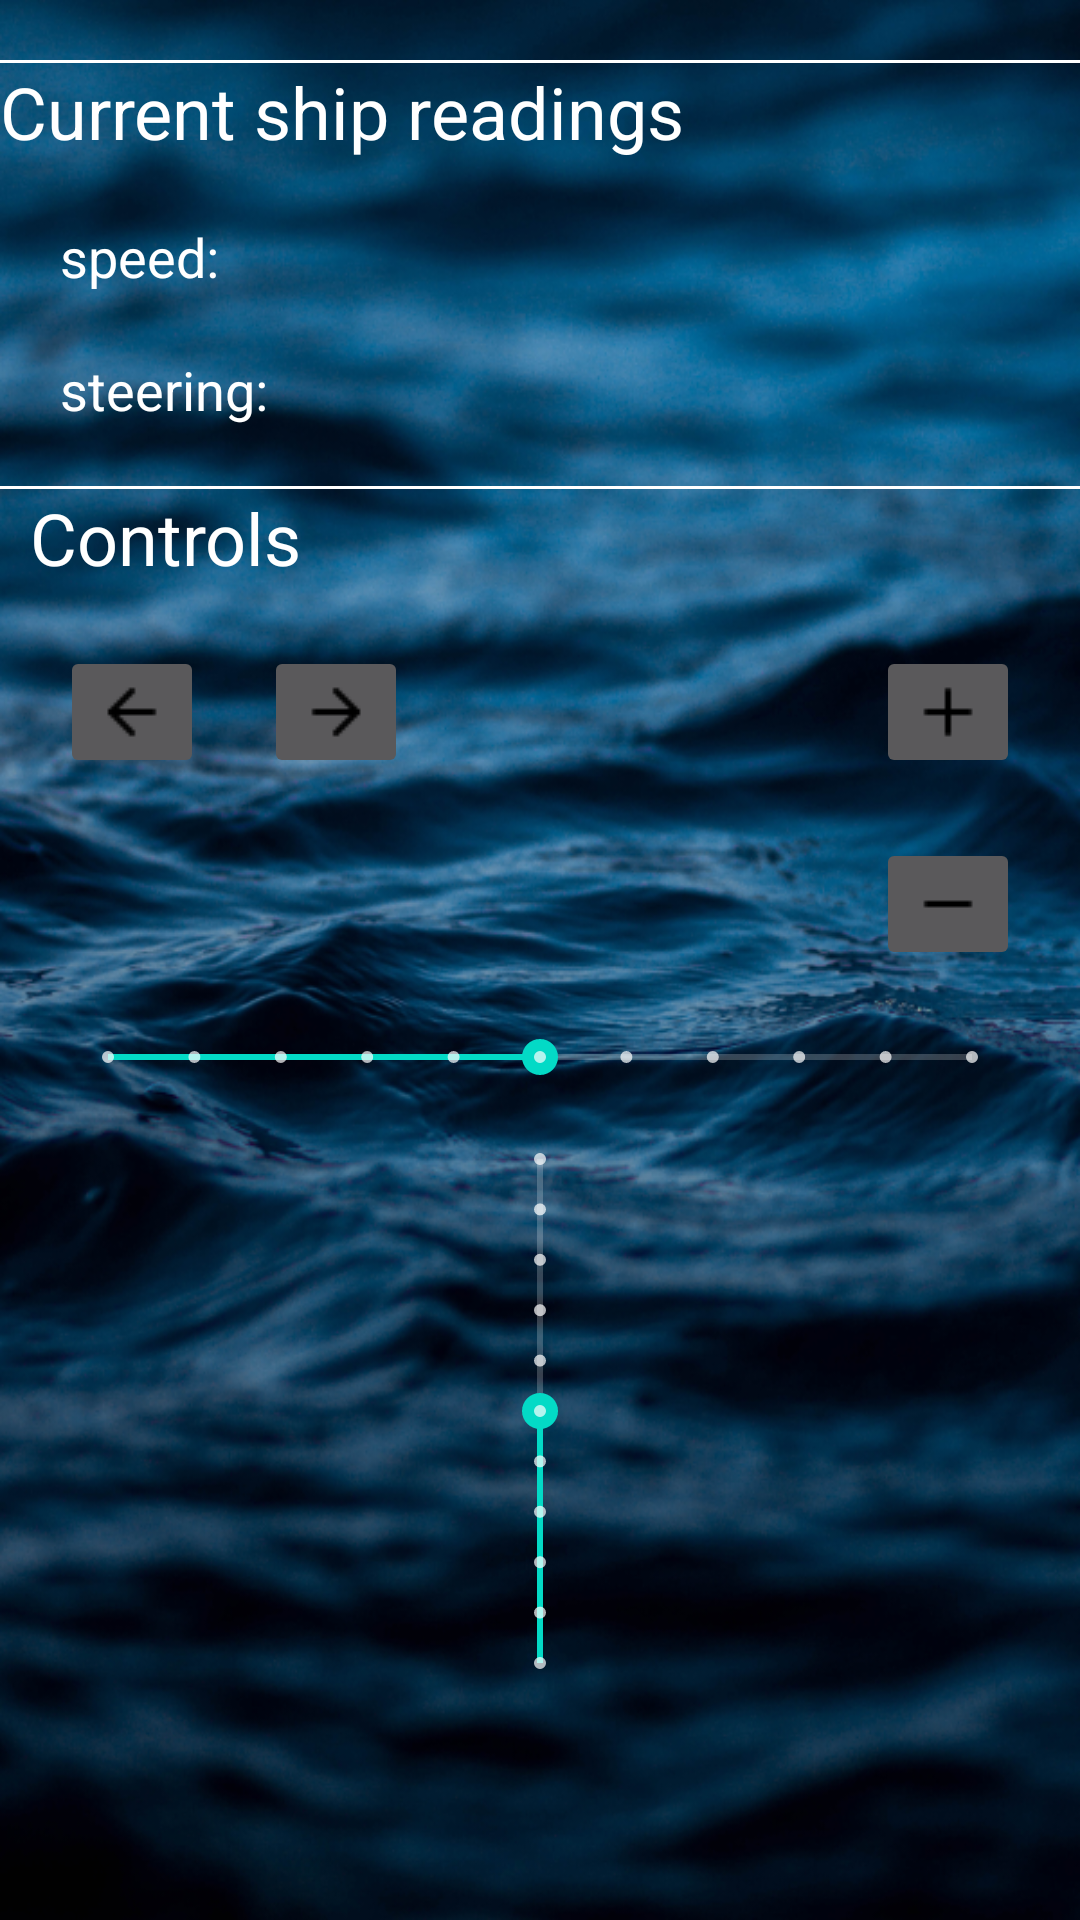

Icons on this 1080 × 1920 Android screen, each with the point to tap as (x=x, y=y):
right: (x=336, y=712)
speed down: (x=948, y=904)
speed up: (x=948, y=707)
turn left: (x=132, y=712)
